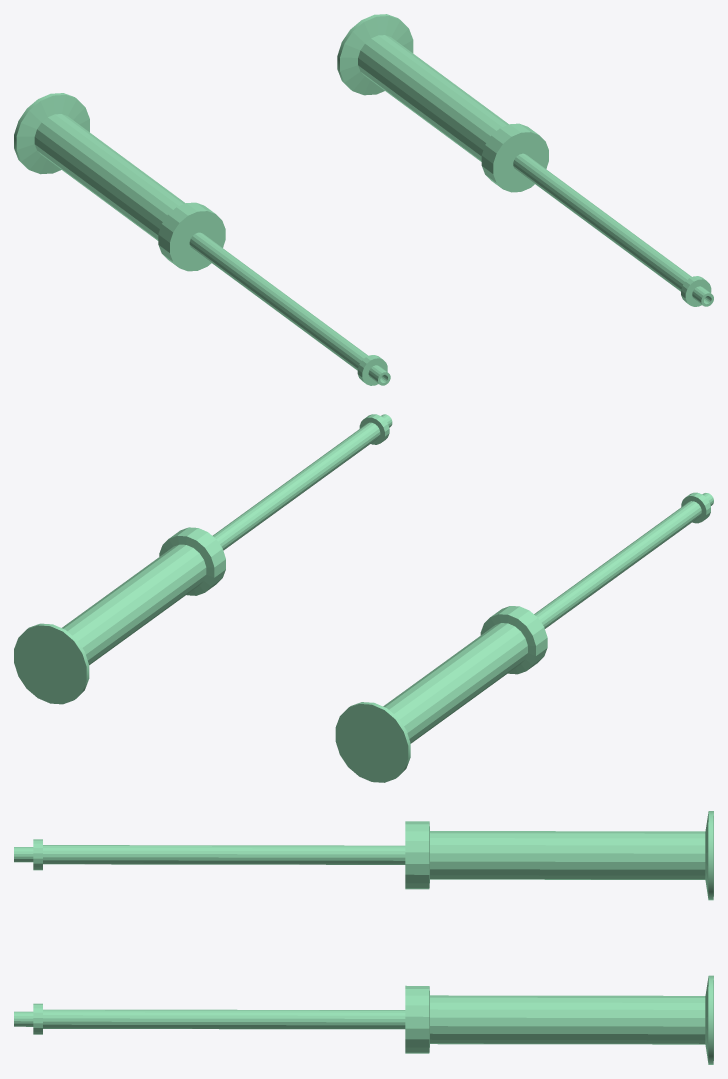
Rendered from guns.obj.
3 views of the same model, one above another, from view 1: azimuth 30°, elevation 25°; view 2: azimuth 150°, elevation 25°; view 3: azimuth 270°, elevation 25° (orthographic). The views are drawn at different scales.
Visible parts, largest first — view 1: Cylinder001, Cylinder002; view 2: Cylinder002, Cylinder001; view 3: Cylinder001, Cylinder002.
Part boxes in pixels (x1,y1,x2,y2): Cylinder001: (337, 14, 713, 306); Cylinder002: (14, 93, 390, 385); Cylinder002: (335, 492, 713, 782); Cylinder001: (14, 414, 392, 704); Cylinder001: (14, 975, 713, 1064); Cylinder002: (14, 811, 713, 900).
Bounding box in the file's own units: 12.27 × 2.3 × 17.98.
